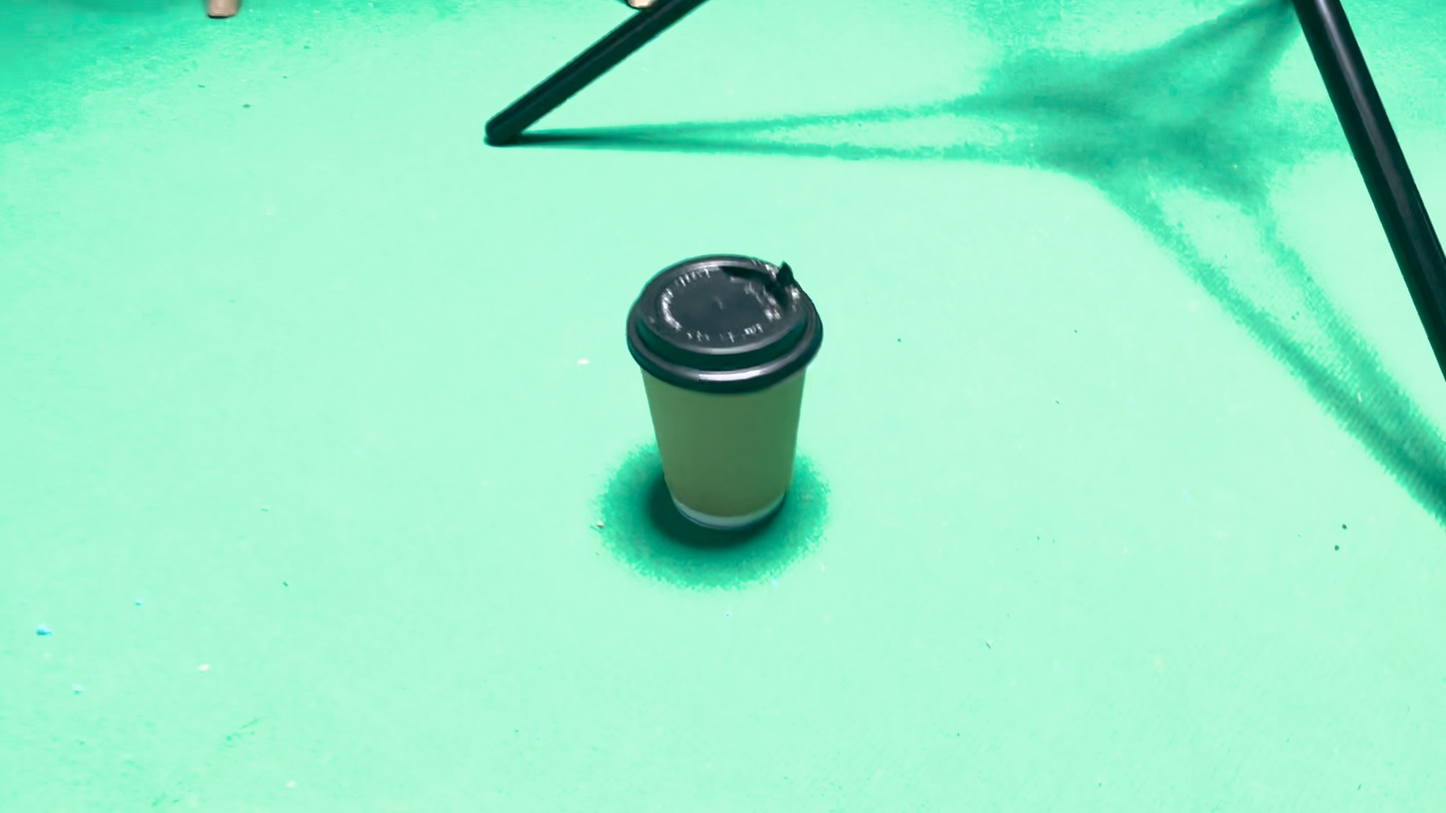cup: (723, 470, 826, 611)
